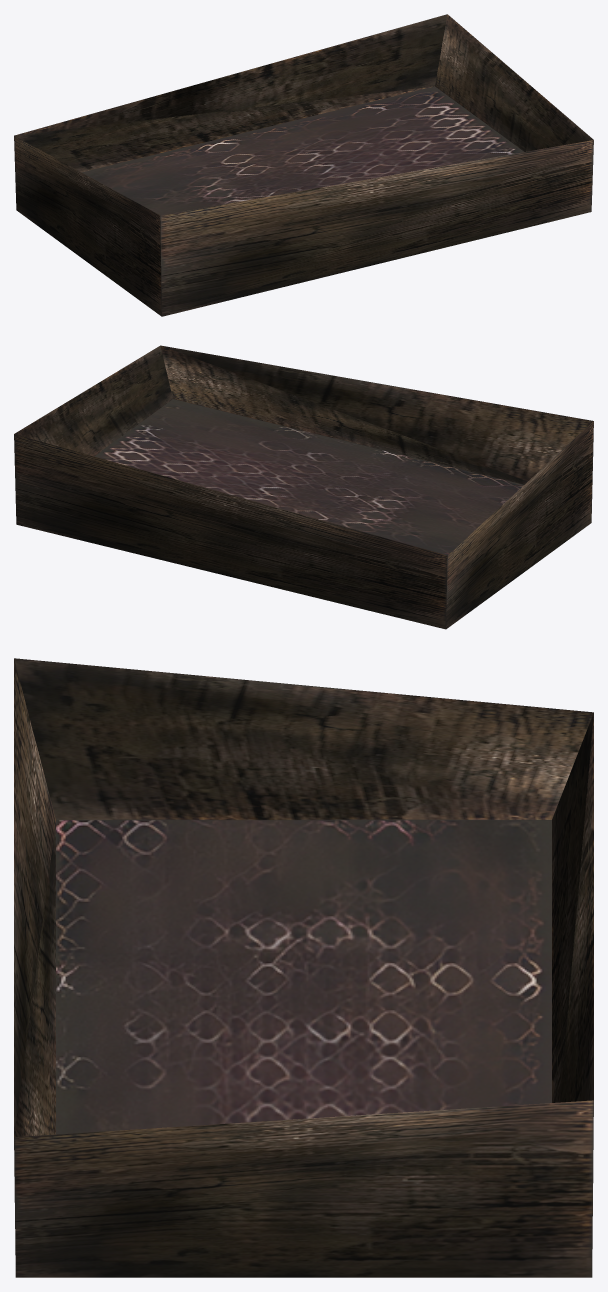
The model's file is cottageburned.gltf.
The picture shows the model from 3 angles, top to bottom: view 1: azimuth 30°, elevation 25°; view 2: azimuth 150°, elevation 25°; view 3: azimuth 270°, elevation 25°; orthographic projection. The views are drawn at different scales.
Visible parts, largest first — view 1: cottageburned_atomic0; view 2: cottageburned_atomic0; view 3: cottageburned_atomic0.
Boxes of the visible parts, x1,y1,x2,y2 form: cottageburned_atomic0: (14,14,593,316); cottageburned_atomic0: (14,345,593,629); cottageburned_atomic0: (14,658,593,1277).
Size of the model in its own units: 23.74 by 5.34 by 13.89.
Materials: 1 (1 with a texture image).
